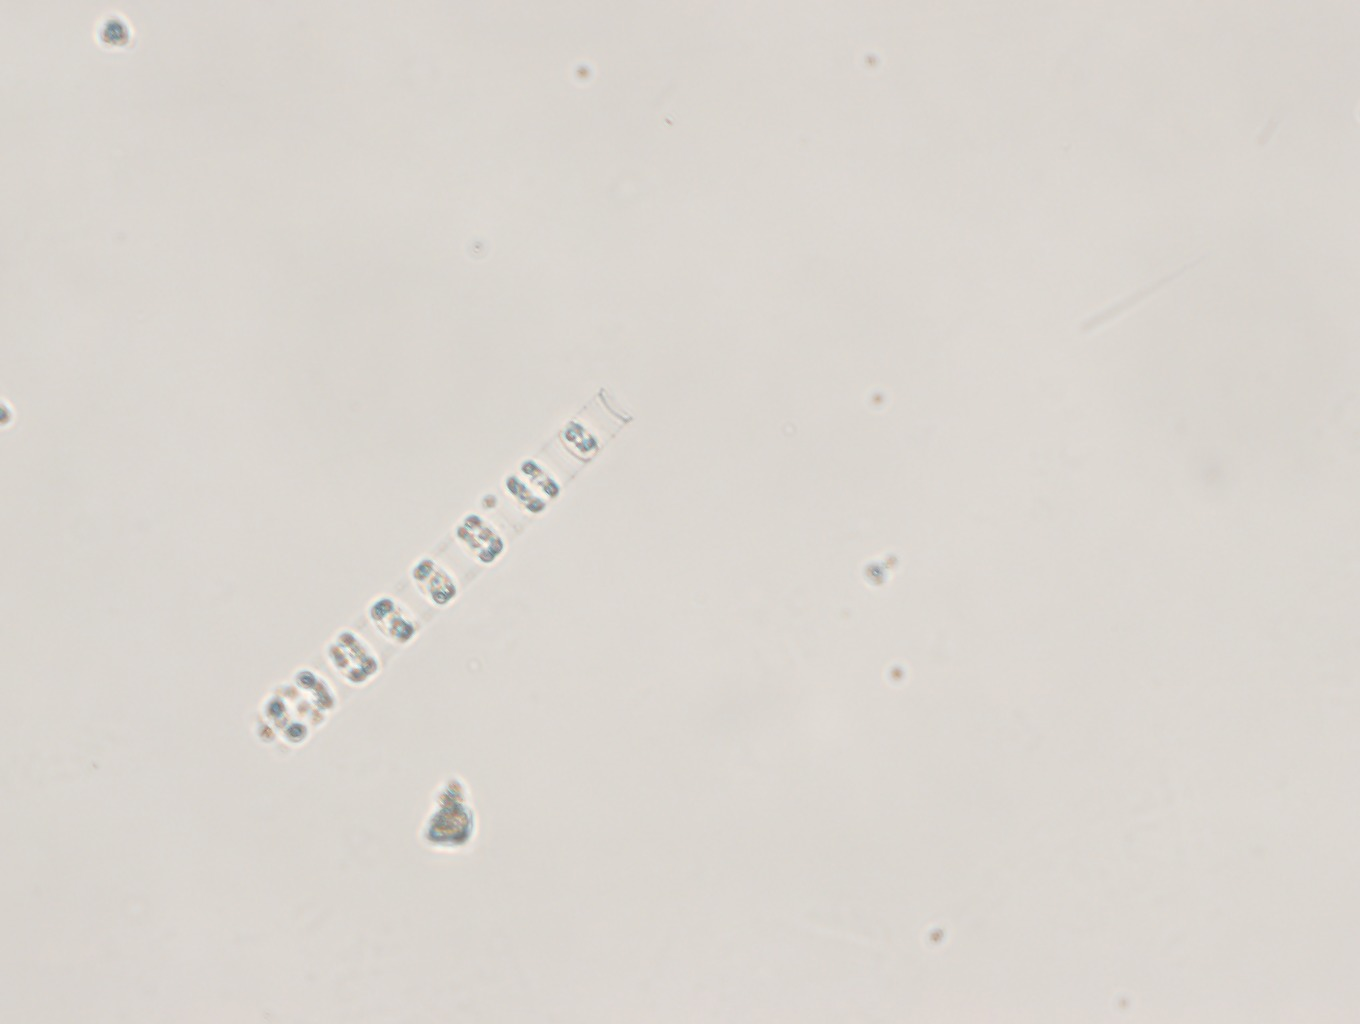skeletonema: (248, 381, 633, 756)
